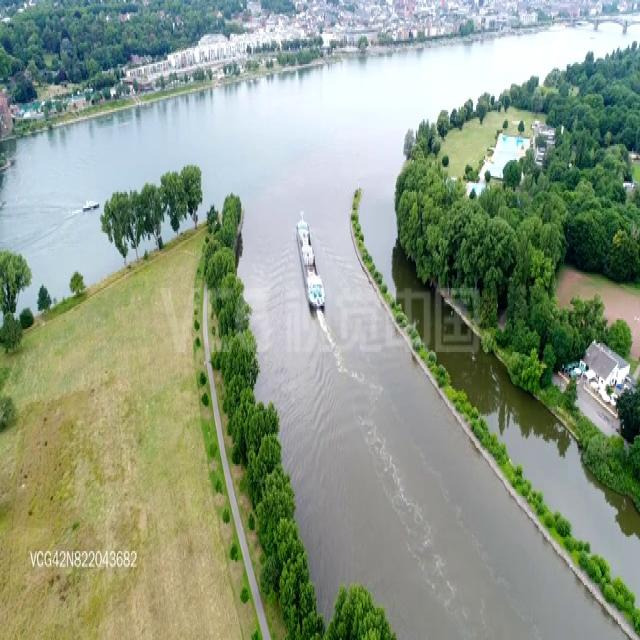cargoship: (294, 206, 327, 308)
houseboat: (81, 196, 99, 214)
